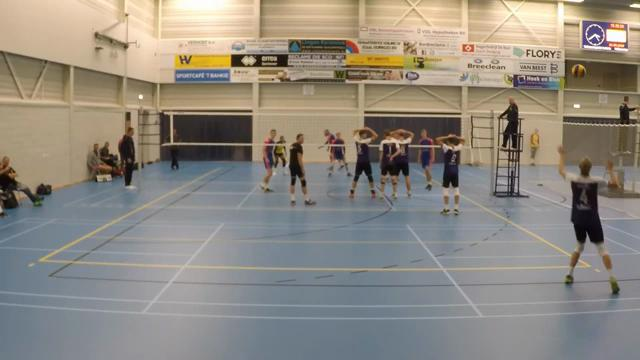battuta: (550, 140, 622, 294)
